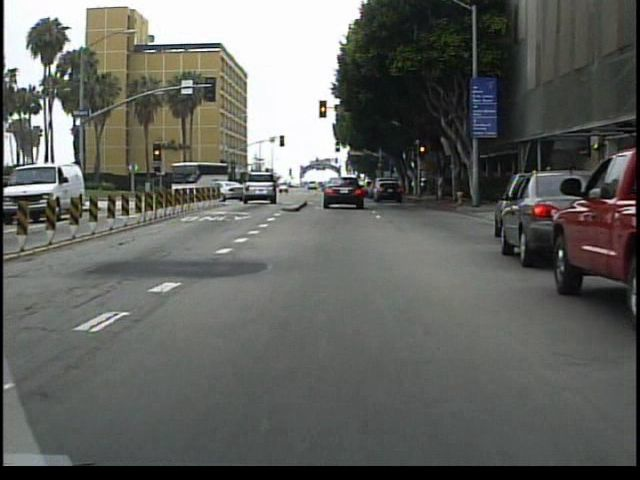person: (55, 174, 67, 210), (63, 174, 75, 210), (39, 171, 52, 204)
